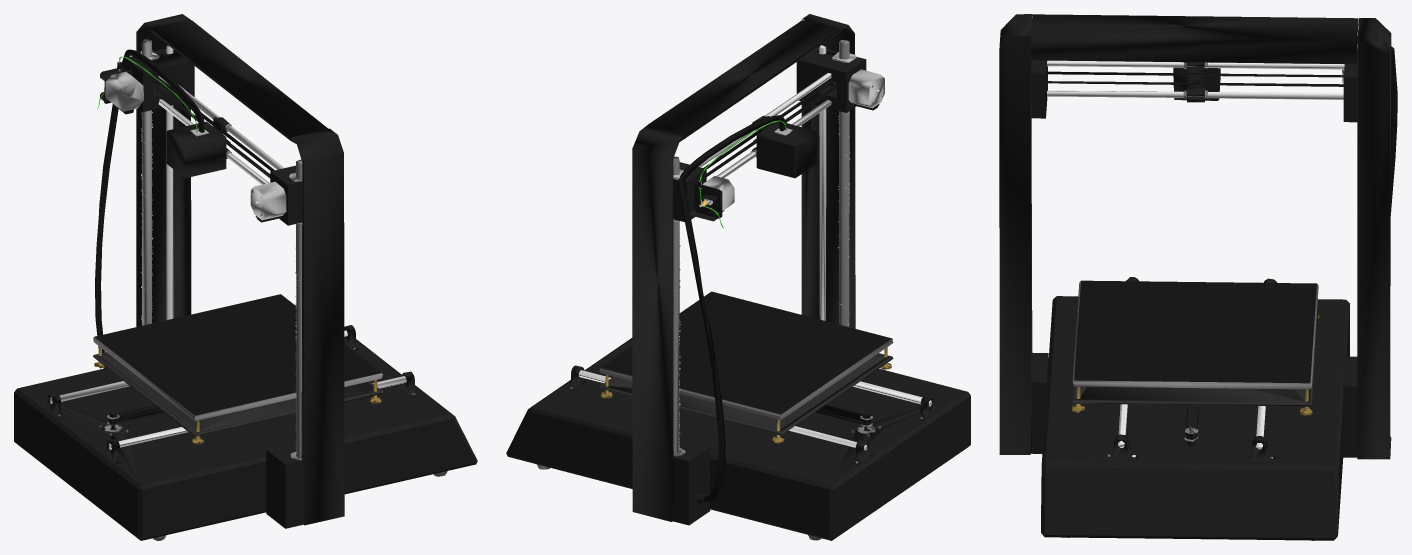
Rendered from impresora3d.glb.
3 views of the same model, side by side, from view 1: azimuth 30°, elevation 25°; view 2: azimuth 150°, elevation 25°; view 3: azimuth 270°, elevation 25° (orthographic). The views are drawn at different scales.
Visible parts, largest first — view 1: 3dprinter.002_0; view 2: 3dprinter.002_0; view 3: 3dprinter.002_0.
Boxes of the visible parts, left/top/right/bottom form: 3dprinter.002_0: left=14, top=14, right=477, bottom=540; 3dprinter.002_0: left=506, top=14, right=970, bottom=540; 3dprinter.002_0: left=999, top=14, right=1397, bottom=540.
Size of the model in its own units: 0.9013 by 0.9809 by 0.8197.
Materials: 1 (1 with a texture image).
